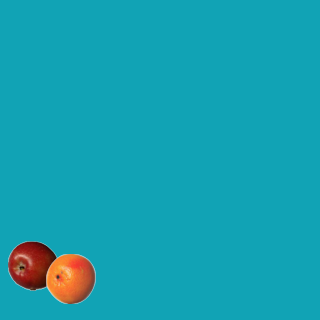Apple Braeburn: (7, 240, 57, 290)
Grapefruit Pink: (45, 253, 95, 303)
